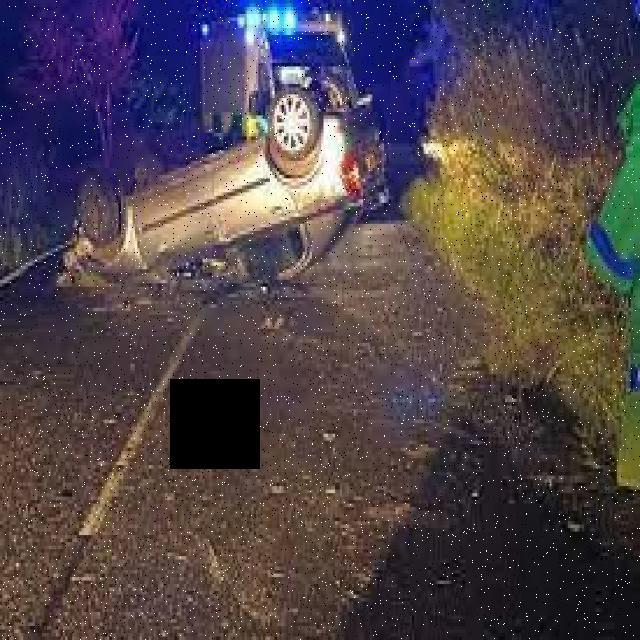severe: (70, 82, 384, 299)
